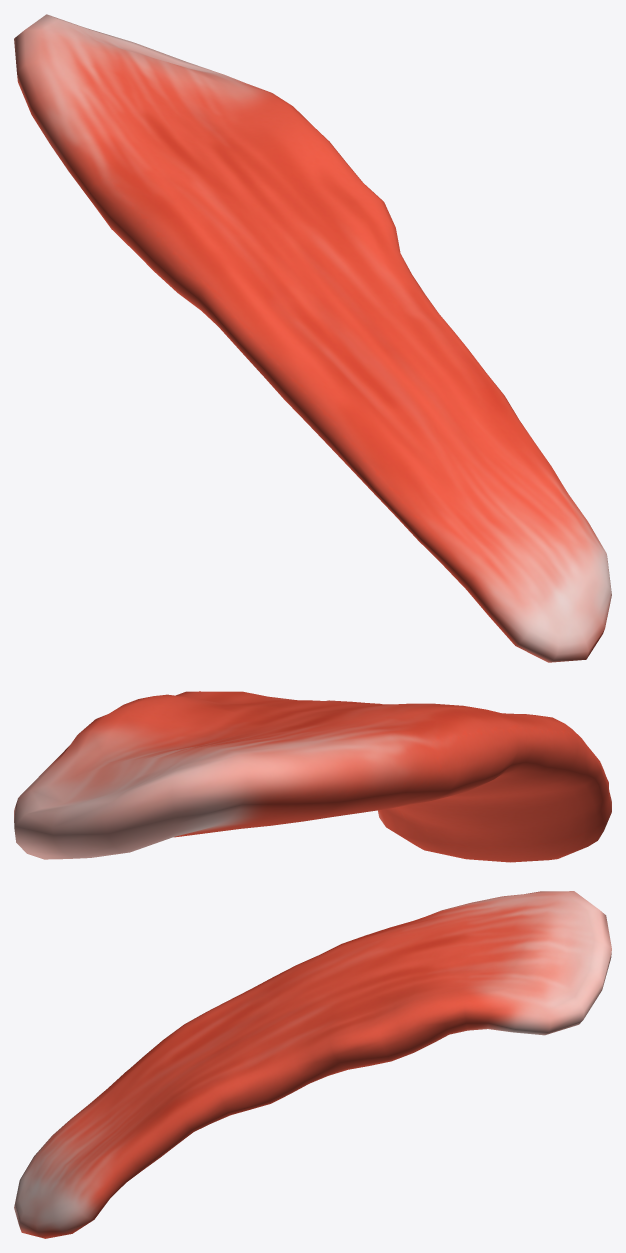
File: Auricular.glb
3 renders of one model, top to bottom at view 1: azimuth 30°, elevation 25°; view 2: azimuth 150°, elevation 25°; view 3: azimuth 270°, elevation 25°, orthographic. The views are drawn at different scales.
Visible parts, largest first — view 1: Auricular.glb; view 2: Auricular.glb; view 3: Auricular.glb.
Boxes of the visible parts, x1,y1,x2,y2 form: Auricular.glb: [14, 14, 611, 662]; Auricular.glb: [14, 691, 611, 862]; Auricular.glb: [14, 891, 611, 1238].
Bounding box in the file's own units: 0.0623 × 0.0828 × 0.1591.
Materials: 1 (1 with a texture image).
